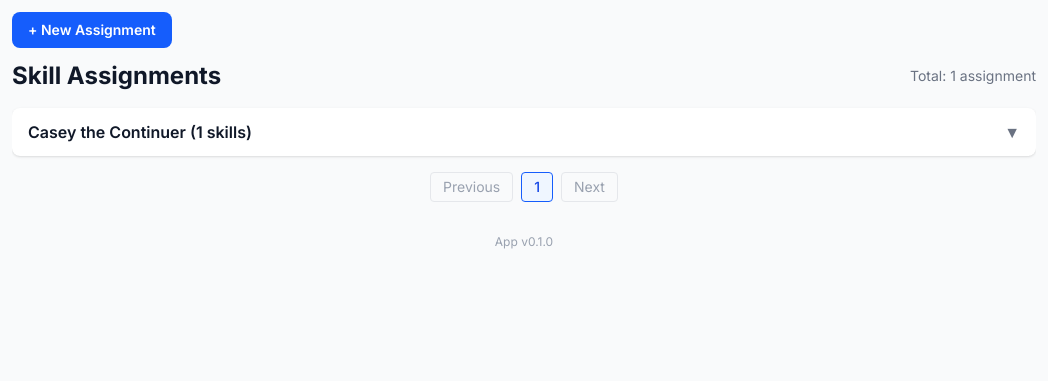
Test case: DashboardPage live auto-update polling › does not show the page-level error state when a poll fails; polling continues on the next interval (AC8)
What coordinates should you click on to do the following:
click the button "Casey the Continuer (1 skills) ▼"
I would click on:
 (107, 132)
Its box is [12,108,1036,156].
Wait 24000 ms
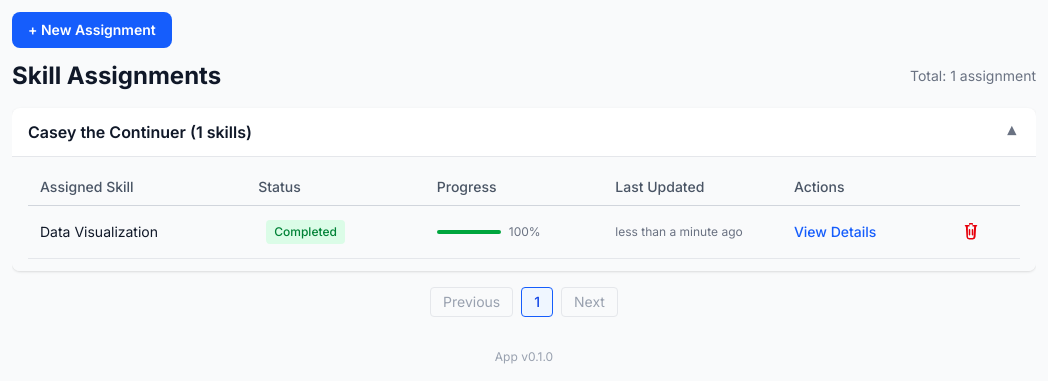
expect the text "Casey the Continuer (1 skills)" is shown: met, box [28,120,252,144]
expect the text "Completed" is shown: met, box [266,220,345,244]
